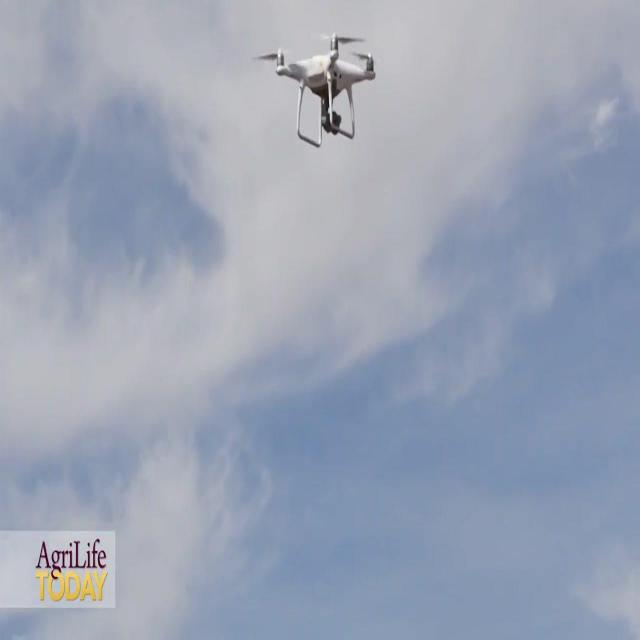UAV: (251, 33, 376, 148)
